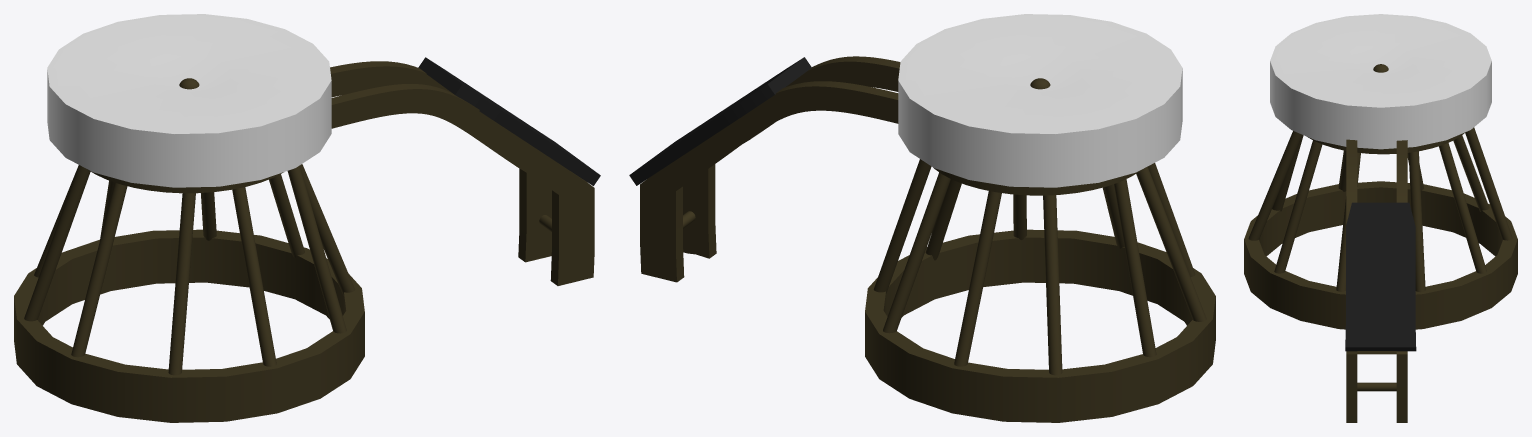
Rendered from SS_ShoeMeasureBench_04_DF.fbx.
The picture shows the model from 3 angles, left to right: view 1: azimuth 30°, elevation 25°; view 2: azimuth 150°, elevation 25°; view 3: azimuth 270°, elevation 25°; orthographic projection. The views are drawn at different scales.
Parts seen in each view (by area): view 1: Cushion_Button, Body, BottomofBody, Footrest; view 2: Cushion_Button, Body, BottomofBody, Footrest; view 3: Cushion_Button, BottomofBody, Body, Footrest.
Part boxes in pixels (left/top/right/bottom): Cushion_Button: left=47, top=14, right=331, bottom=187; Body: left=24, top=61, right=594, bottom=375; BottomofBody: left=14, top=229, right=364, bottom=422; Footrest: left=418, top=57, right=600, bottom=185; Cushion_Button: left=898, top=14, right=1182, bottom=187; Body: left=640, top=56, right=1206, bottom=375; BottomofBody: left=865, top=229, right=1215, bottom=422; Footrest: left=629, top=57, right=811, bottom=185; Cushion_Button: left=1270, top=14, right=1491, bottom=149; BottomofBody: left=1244, top=181, right=1517, bottom=329; Body: left=1248, top=127, right=1512, bottom=422; Footrest: left=1345, top=202, right=1416, bottom=351.
Bounding box in the file's own units: 1.12 × 0.5559 × 0.6341.
